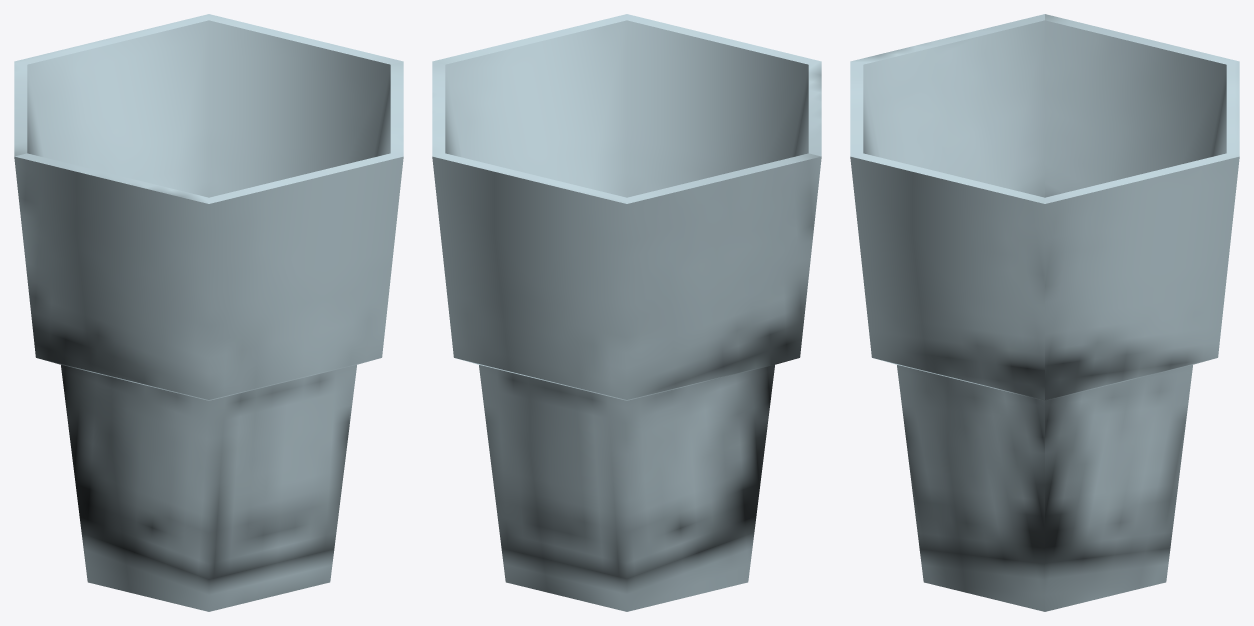
The model's file is EmptyGlassV14.fbx.
3 views of the same model, side by side, from view 1: azimuth 30°, elevation 25°; view 2: azimuth 150°, elevation 25°; view 3: azimuth 270°, elevation 25° (orthographic).
Parts seen in each view (by area): view 1: Glasses.014; view 2: Glasses.014; view 3: Glasses.014.
Boxes of the visible parts, <box> form: Glasses.014: <box>14,14,403,611</box>; Glasses.014: <box>432,14,821,611</box>; Glasses.014: <box>850,14,1239,611</box>.
Size of the model in its own units: 0.1675 by 0.1823 by 0.1451.
